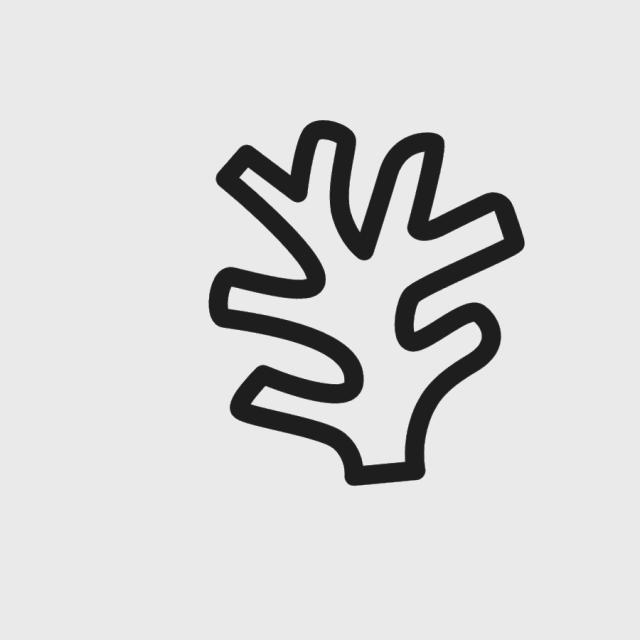coral: (201, 116, 533, 496)
